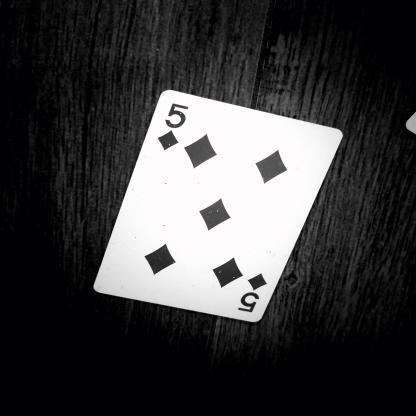5D: (152, 99, 194, 154), (228, 272, 272, 324)
